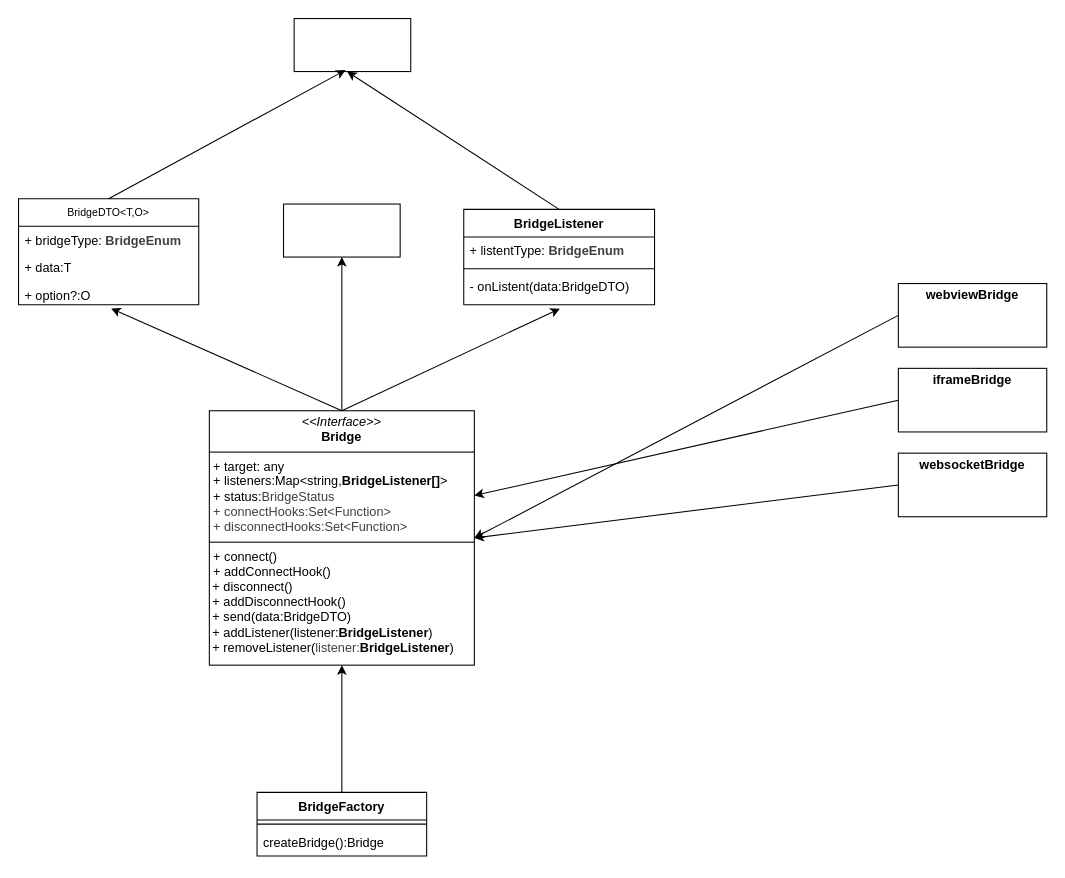
The diagram is 1065 pixels wide and 878 high, and some of its shapes have lost their labels. Each missing label, with the centre of its shape:
"«enum» BridgeEnum" goes at pixel 352 44.
"«enum» BridgeStatus" goes at pixel 341 230.
